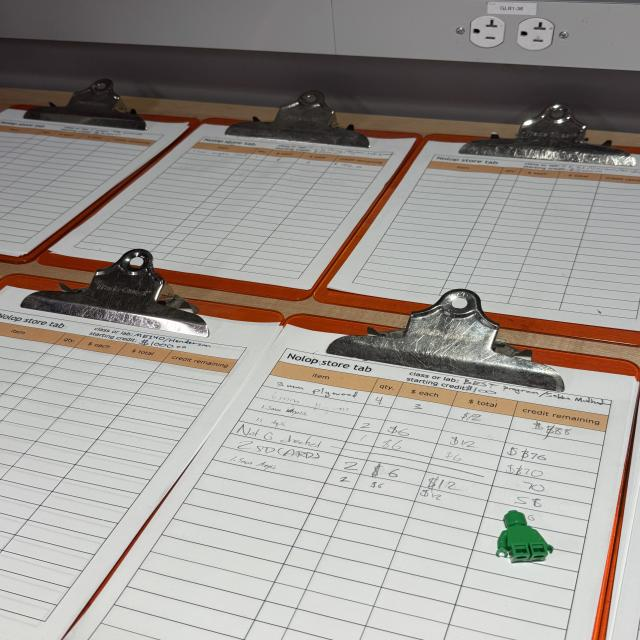Green Mini Figure: (496, 510, 553, 563)
